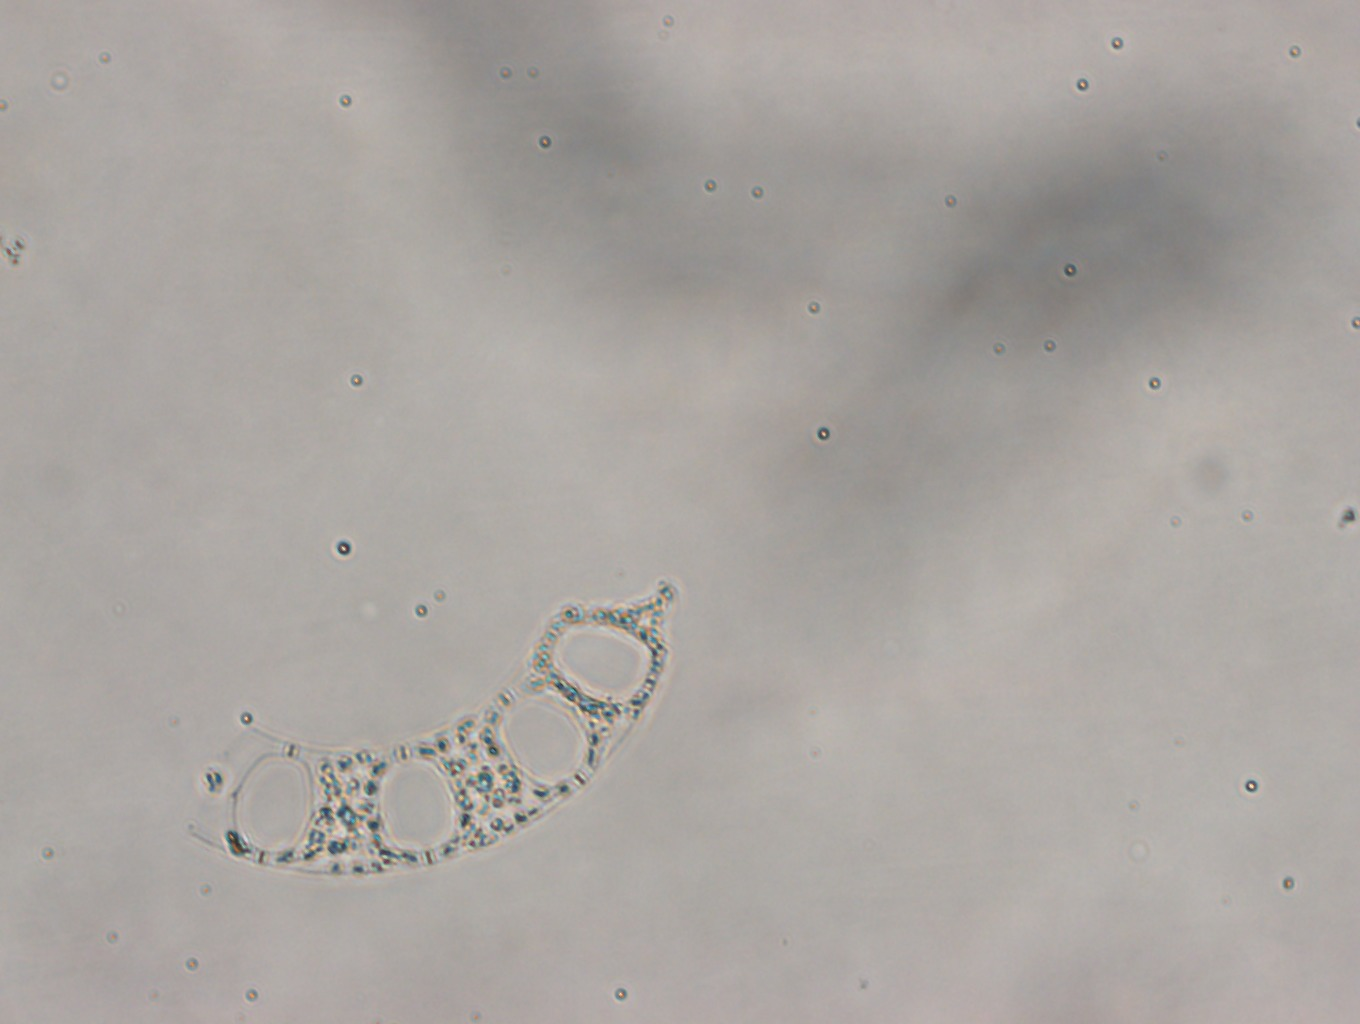eucampia: (184, 580, 677, 878)
